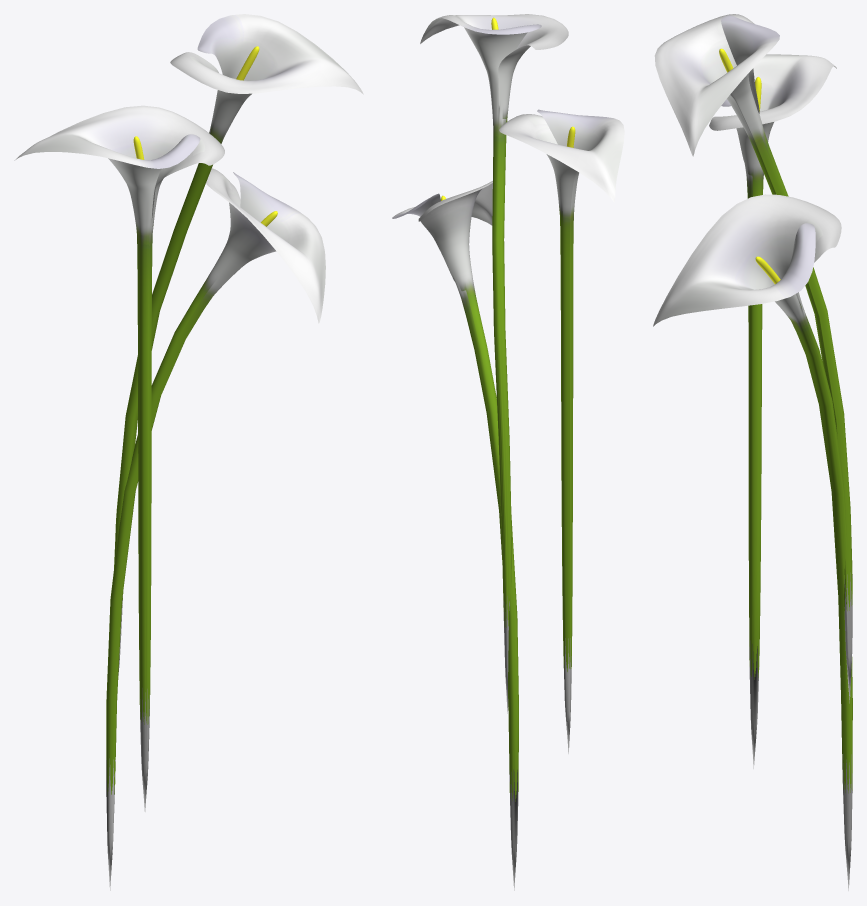
The picture shows the model from 3 angles, left to right: view 1: azimuth 30°, elevation 25°; view 2: azimuth 150°, elevation 25°; view 3: azimuth 270°, elevation 25°; orthographic projection. The views are drawn at different scales.
Visible parts, largest first — view 1: Petales.001, Petales, Petales.002; view 2: Petales.001, Petales.002, Petales; view 3: Petales, Petales.002, Petales.001.
Boxes of the visible parts, left/top/right/bottom form: Petales.001: left=14, top=105, right=224, bottom=811; Petales: left=106, top=168, right=325, bottom=890; Petales.002: left=114, top=14, right=363, bottom=675; Petales.001: left=499, top=109, right=624, bottom=753; Petales.002: left=420, top=14, right=568, bottom=713; Petales: left=392, top=181, right=518, bottom=890; Petales: left=653, top=194, right=852, bottom=890; Petales.002: left=654, top=14, right=852, bottom=703; Petales.001: left=709, top=54, right=836, bottom=768.
Size of the model in its own units: 27.23 by 82.12 by 16.61.
Materials: 2 (1 with a texture image).
